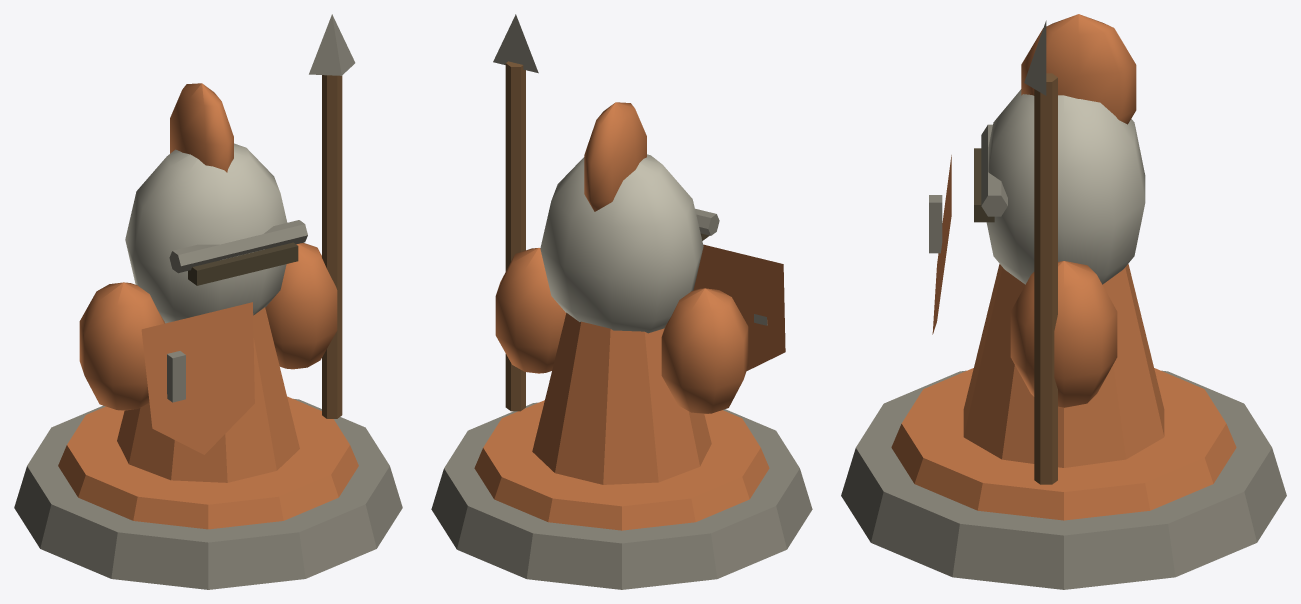
Rendered from knight-1-0.glb.
The picture shows the model from 3 angles, left to right: view 1: azimuth 30°, elevation 25°; view 2: azimuth 150°, elevation 25°; view 3: azimuth 270°, elevation 25°; orthographic projection. The views are drawn at different scales.
Parts seen in each view (by area): view 1: knight-1-0.001, knight-1-0, knight-1-0.002, knight-1-0.004, knight-1-0.003; view 2: knight-1-0.001, knight-1-0, knight-1-0.002, knight-1-0.004; view 3: knight-1-0.001, knight-1-0, knight-1-0.002, knight-1-0.004, knight-1-0.003.
Boxes of the visible parts, left/top/right/bottom form: knight-1-0.001: left=58, top=83, right=358, bottom=529; knight-1-0: left=14, top=14, right=402, bottom=589; knight-1-0.002: left=125, top=143, right=287, bottom=323; knight-1-0.004: left=322, top=75, right=342, bottom=418; knight-1-0.003: left=188, top=242, right=298, bottom=285; knight-1-0.001: left=474, top=102, right=785, bottom=530; knight-1-0: left=431, top=14, right=812, bottom=589; knight-1-0.002: left=540, top=154, right=703, bottom=333; knight-1-0.004: left=505, top=61, right=525, bottom=411; knight-1-0.001: left=891, top=14, right=1236, bottom=520; knight-1-0: left=841, top=20, right=1286, bottom=589; knight-1-0.002: left=986, top=89, right=1145, bottom=284; knight-1-0.004: left=1034, top=73, right=1057, bottom=484; knight-1-0.003: left=974, top=148, right=994, bottom=222.
Size of the model in its own units: 0.302 by 0.404 by 0.302.
